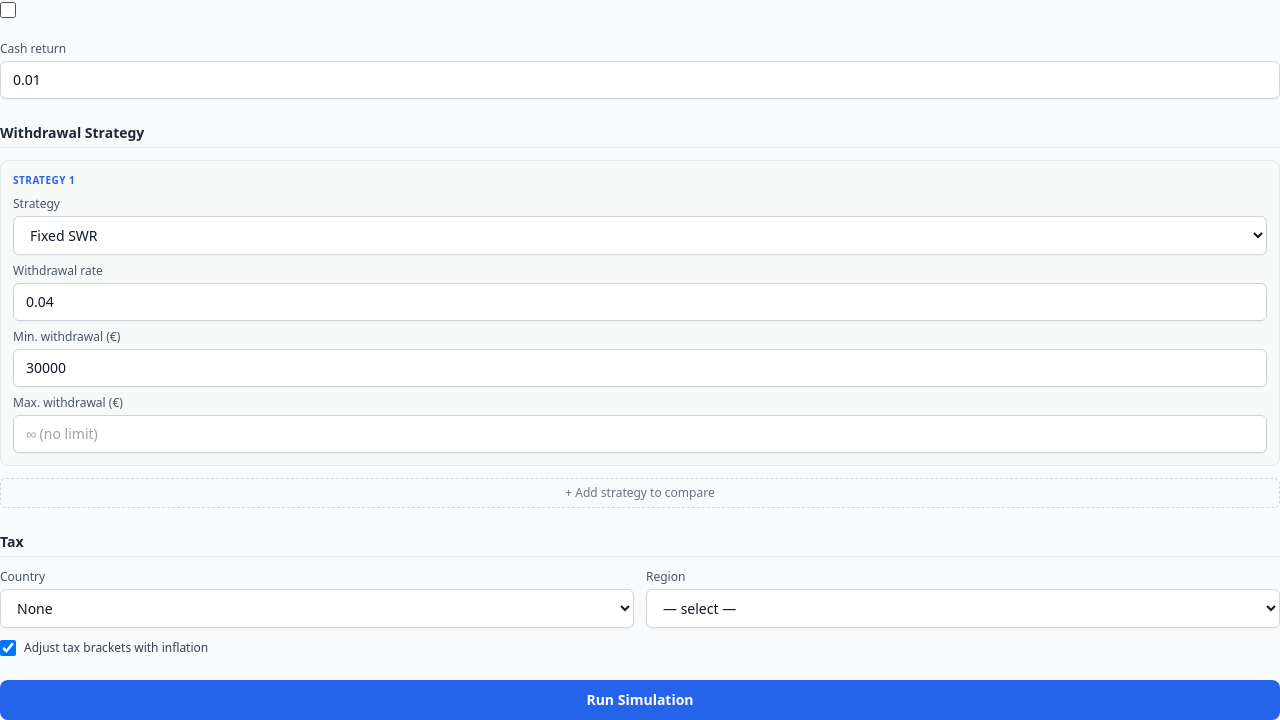
Test: ConfigForm strategy management › can add a strategy card
(page scrolled)
Step 1. Click the button "+ Add strategy to compare" → (640, 493), box [0,478,1279,508]
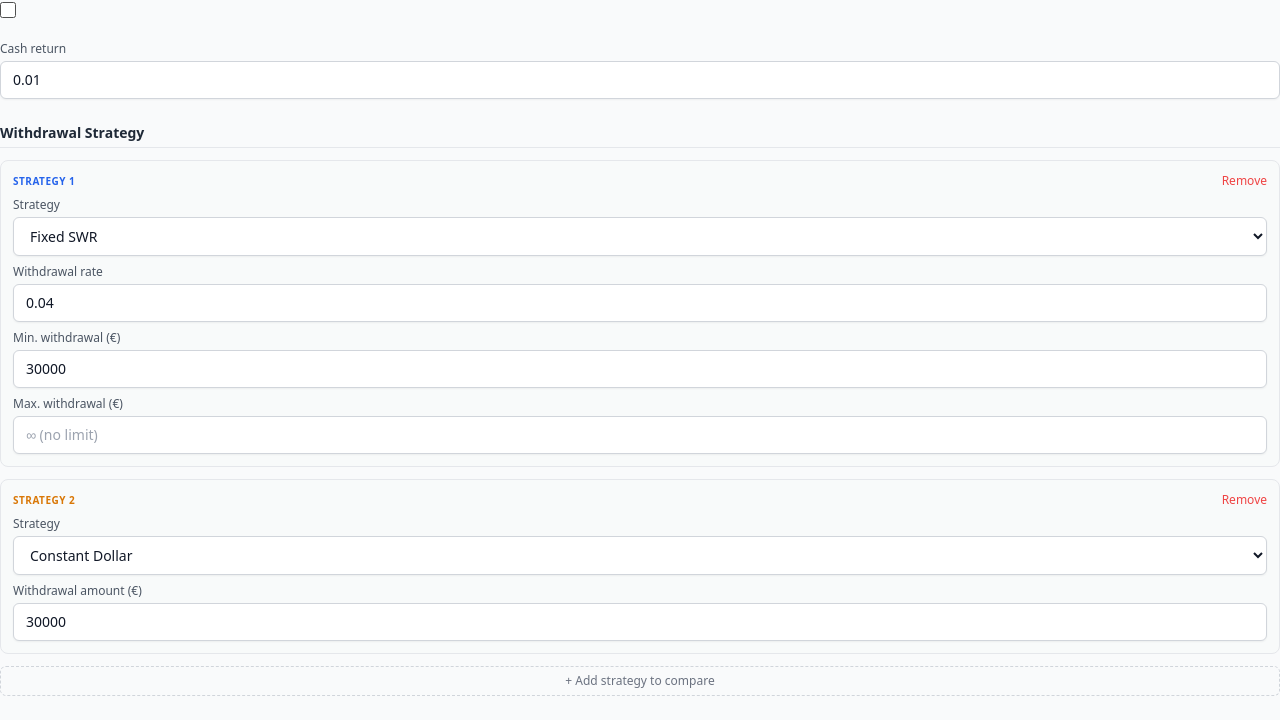
Expected: the text "Strategy 1" is shown, [13,174,75,188]
Expected: the text "Strategy 2" is shown, [13,492,75,508]
